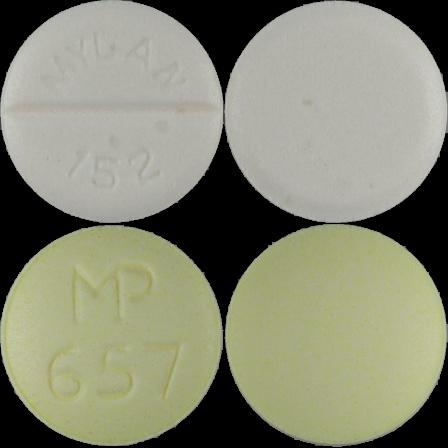53808-0228: (0, 0, 224, 224)
